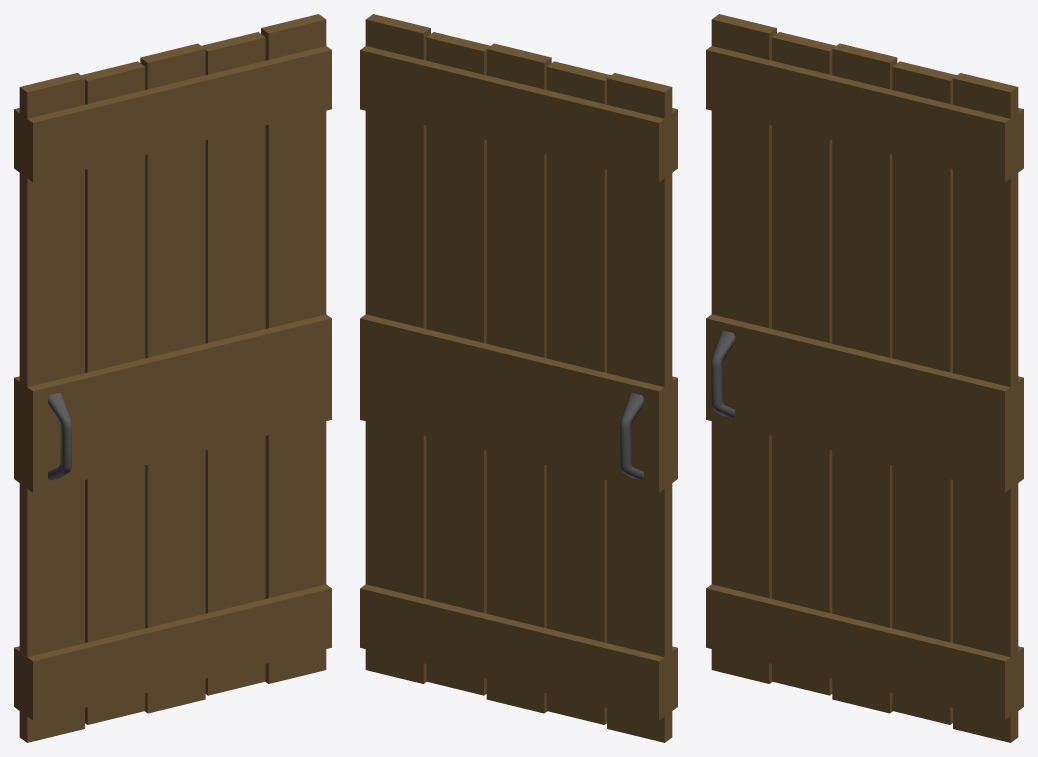
File: WoodDoor.FBX
3 renders of one model, left to right at view 1: azimuth 30°, elevation 25°; view 2: azimuth 150°, elevation 25°; view 3: azimuth 330°, elevation 25°, orthographic.
Parts seen in each view (by area): view 1: WoodDoor, Handle; view 2: WoodDoor, Handle; view 3: WoodDoor, Handle.
Part boxes in pixels (left/top/right/bottom): WoodDoor: left=14, top=14, right=331, bottom=742; Handle: left=48, top=392, right=71, bottom=480; WoodDoor: left=360, top=14, right=677, bottom=742; Handle: left=620, top=393, right=643, bottom=480; WoodDoor: left=706, top=14, right=1023, bottom=742; Handle: left=711, top=330, right=735, bottom=418.
Size of the model in its own units: 101 by 210 by 28.3.
